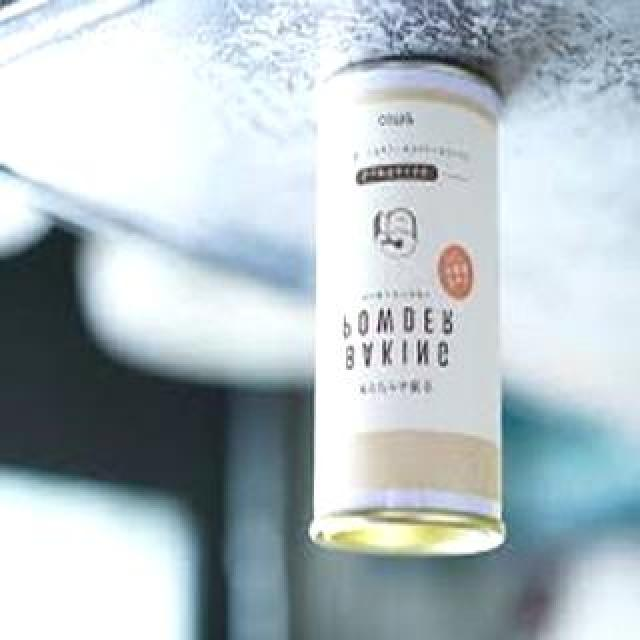Can: (307, 47, 505, 565)
